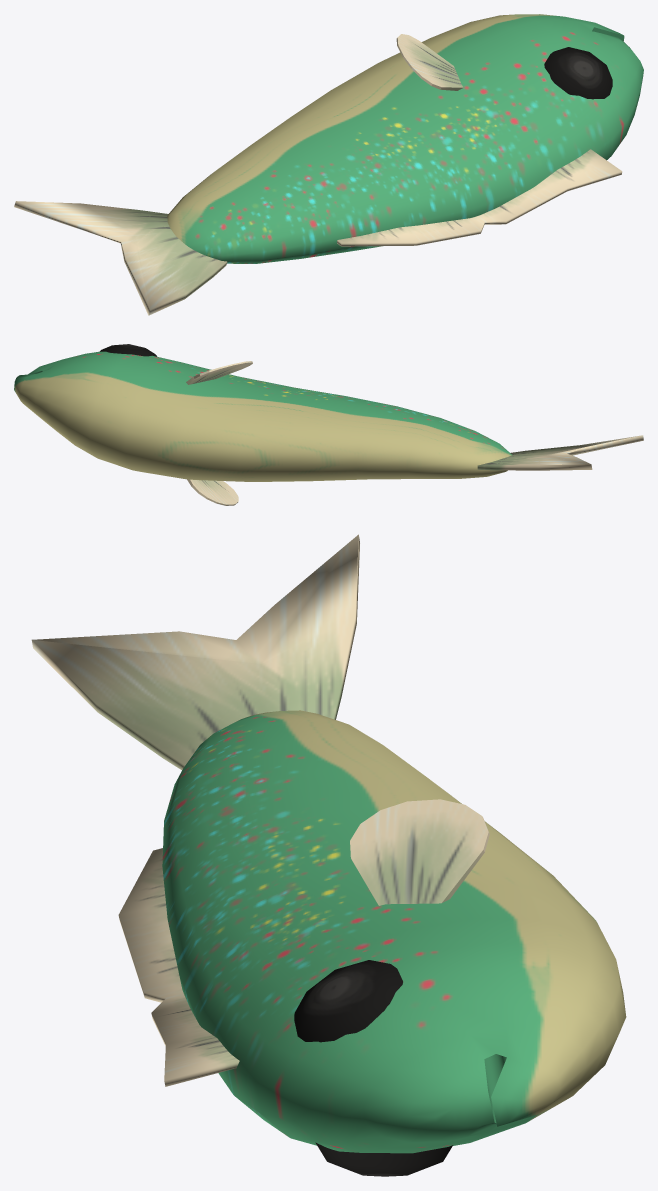
Rendered from Fish.fbx.
3 renders of one model, top to bottom at view 1: azimuth 30°, elevation 25°; view 2: azimuth 150°, elevation 25°; view 3: azimuth 270°, elevation 25°, orthographic. The views are drawn at different scales.
Parts seen in each view (by area): view 1: Fish; view 2: Fish; view 3: Fish.
Part boxes in pixels (x1,y1,x2,y2): Fish: (14, 14, 643, 315); Fish: (14, 344, 643, 505); Fish: (31, 534, 626, 1176).
Bounding box in the file's own units: 41.74 × 10.41 × 19.88.
